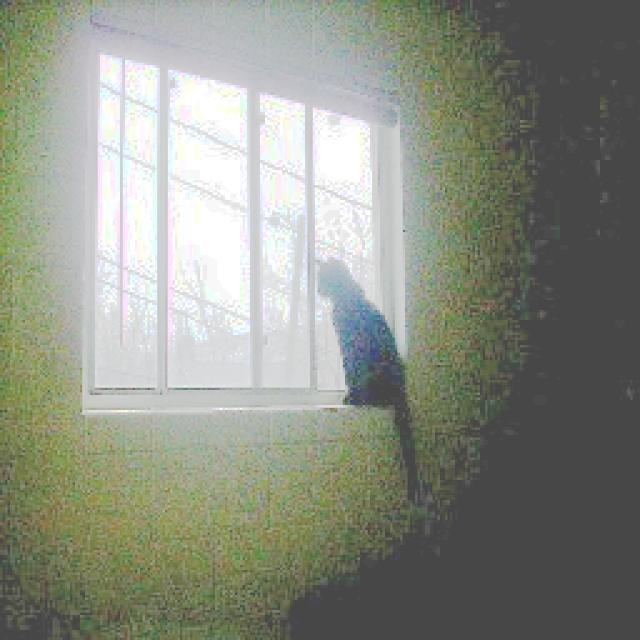cat: (314, 254, 409, 411)
